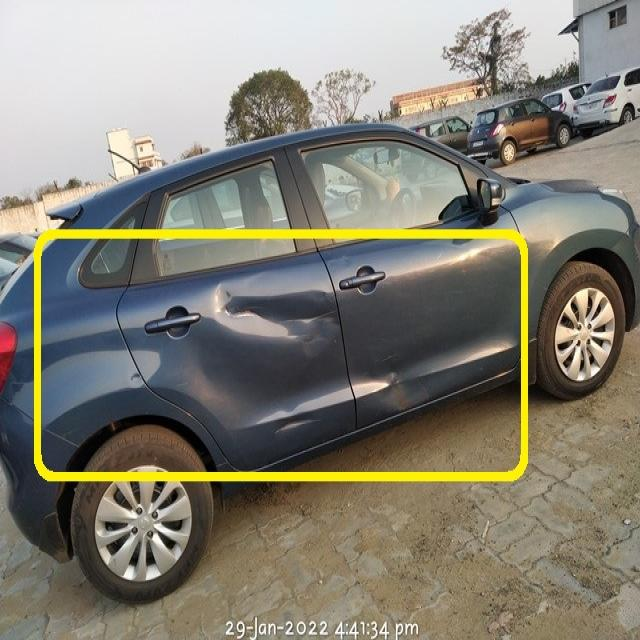damage: (196, 276, 340, 371), (374, 342, 425, 416), (244, 401, 330, 441)
